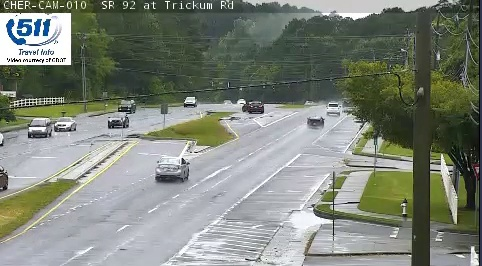car: (155, 157, 189, 179), (307, 116, 324, 129)
